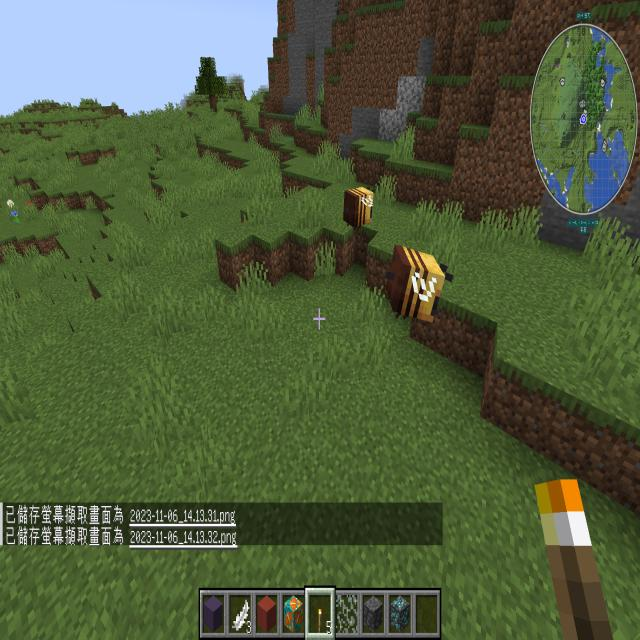bee: (382, 232, 456, 344), (338, 173, 382, 241)
